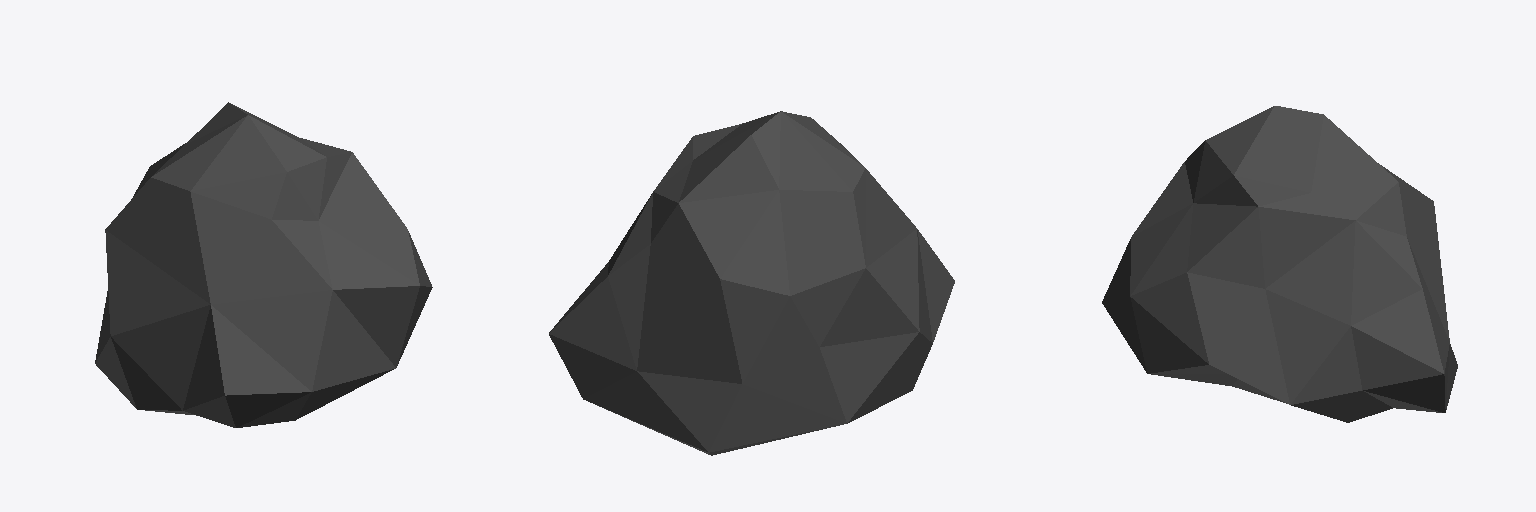
Rendered from rock3.obj.
3 views of the same model, side by side, from view 1: azimuth 30°, elevation 25°; view 2: azimuth 150°, elevation 25°; view 3: azimuth 270°, elevation 25° (orthographic).
Visible parts, largest first — view 1: low_poly_rock_3; view 2: low_poly_rock_3; view 3: low_poly_rock_3.
Boxes of the visible parts, x1=… form: low_poly_rock_3: x1=95, y1=102, x2=432, y2=427; low_poly_rock_3: x1=549, y1=111, x2=954, y2=455; low_poly_rock_3: x1=1102, y1=106, x2=1457, y2=422.
Bounding box in the file's own units: 2.01 × 1.88 × 2.09.